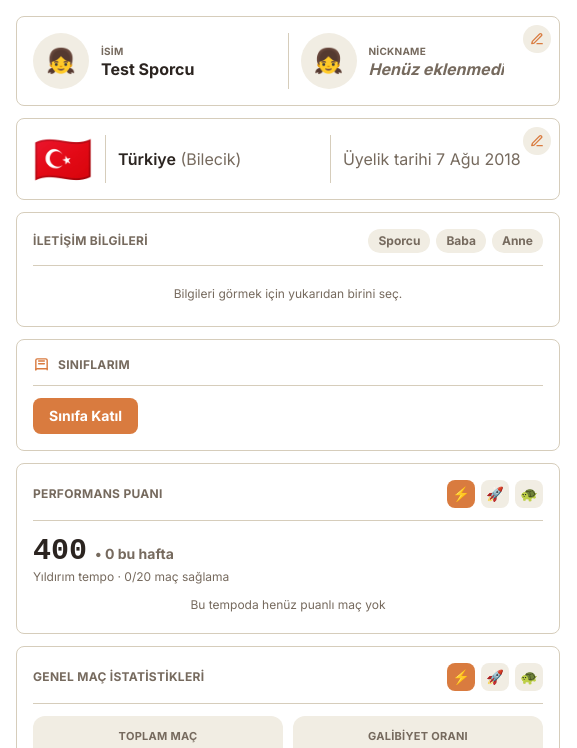
Profil sayfası — İletişim Bilgileri kartı (madde 2026-09-07, GRUP C) › aynı pill'e tekrar tıklanınca kapanır
Check: the text "İletişim Bilgileri" is shown, box [33,233,148,249]
Click the button "Sporcu" at (399, 241), box [368,229,430,253]
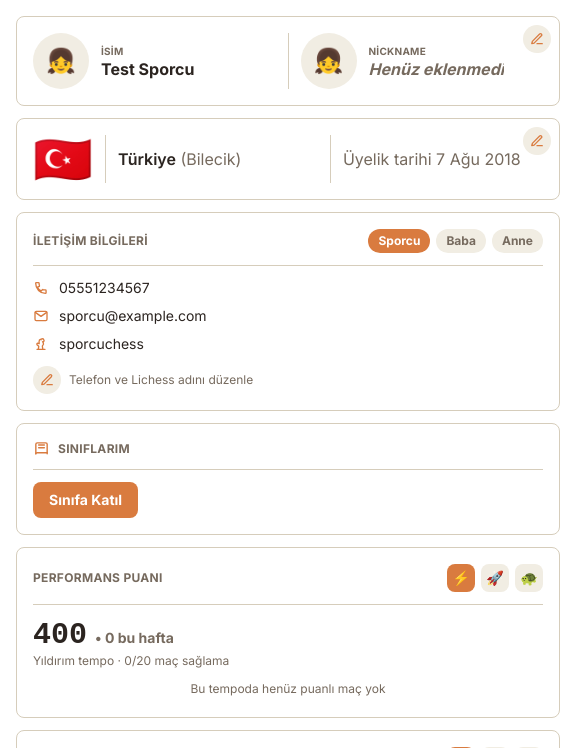
Check: the text "05551234567" is shown, box [59,278,150,298]
Click the button "Sporcu" at (399, 241), box [368,229,430,253]
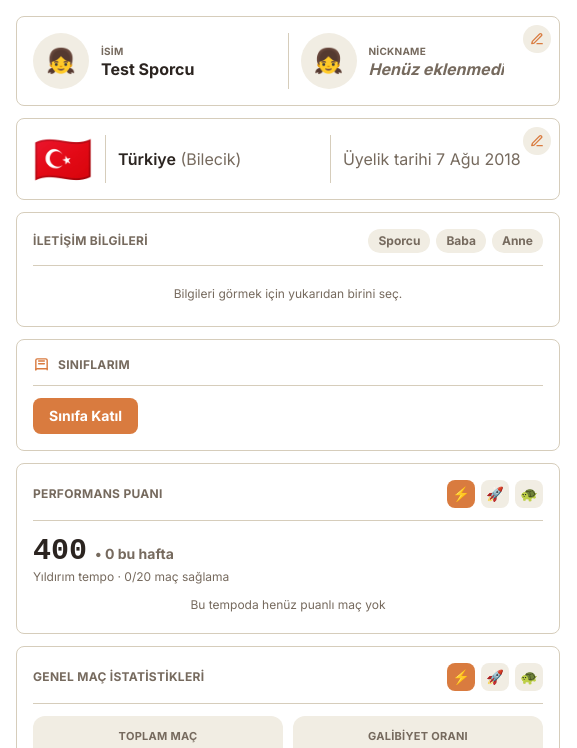
Check: the text "05551234567" is gone
